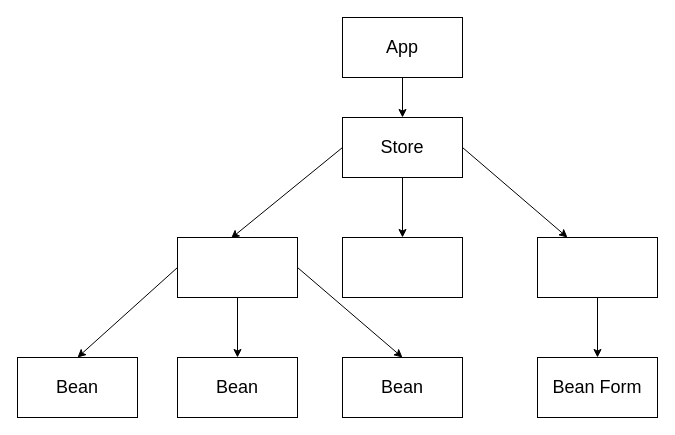
Image size: 675x435. Some labels were removed from this diagram. The centre of each missing label's shape, as x and y in pixels:
"Add" goes at (597,267).
"Edit" goes at (402,267).
"Stock" goes at (237,267).
